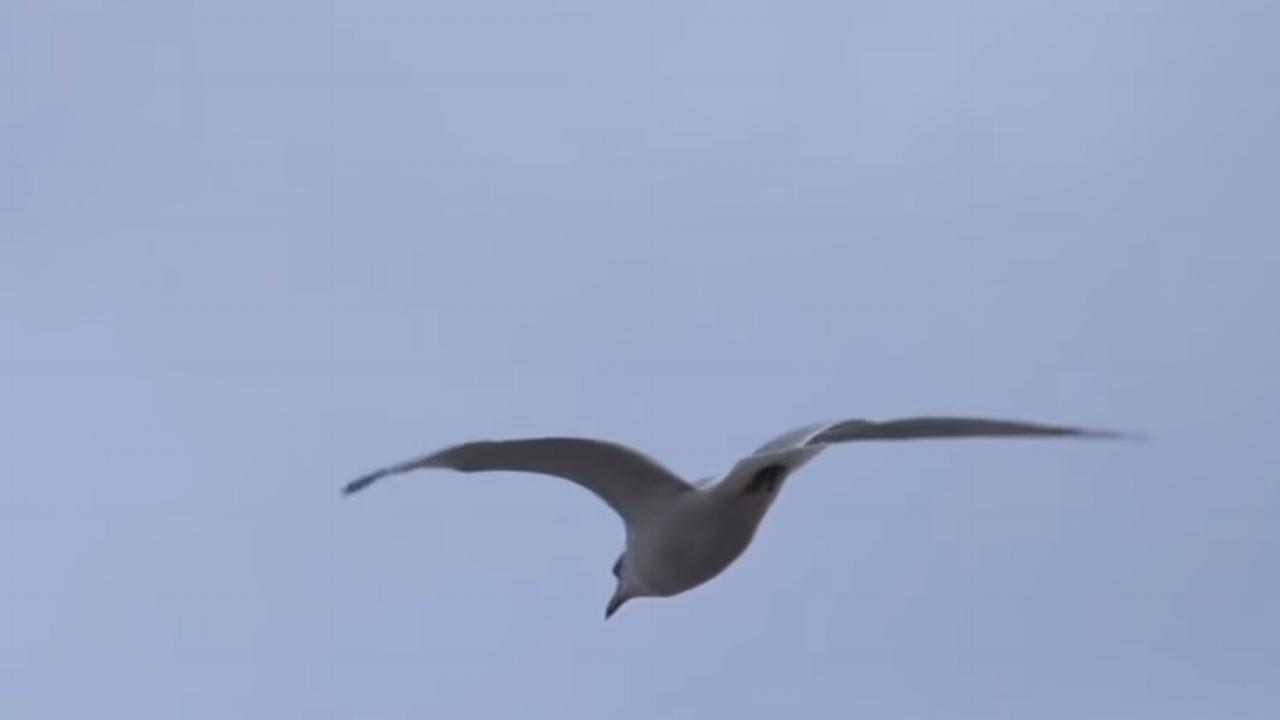Bird: (336, 406, 1154, 632)
